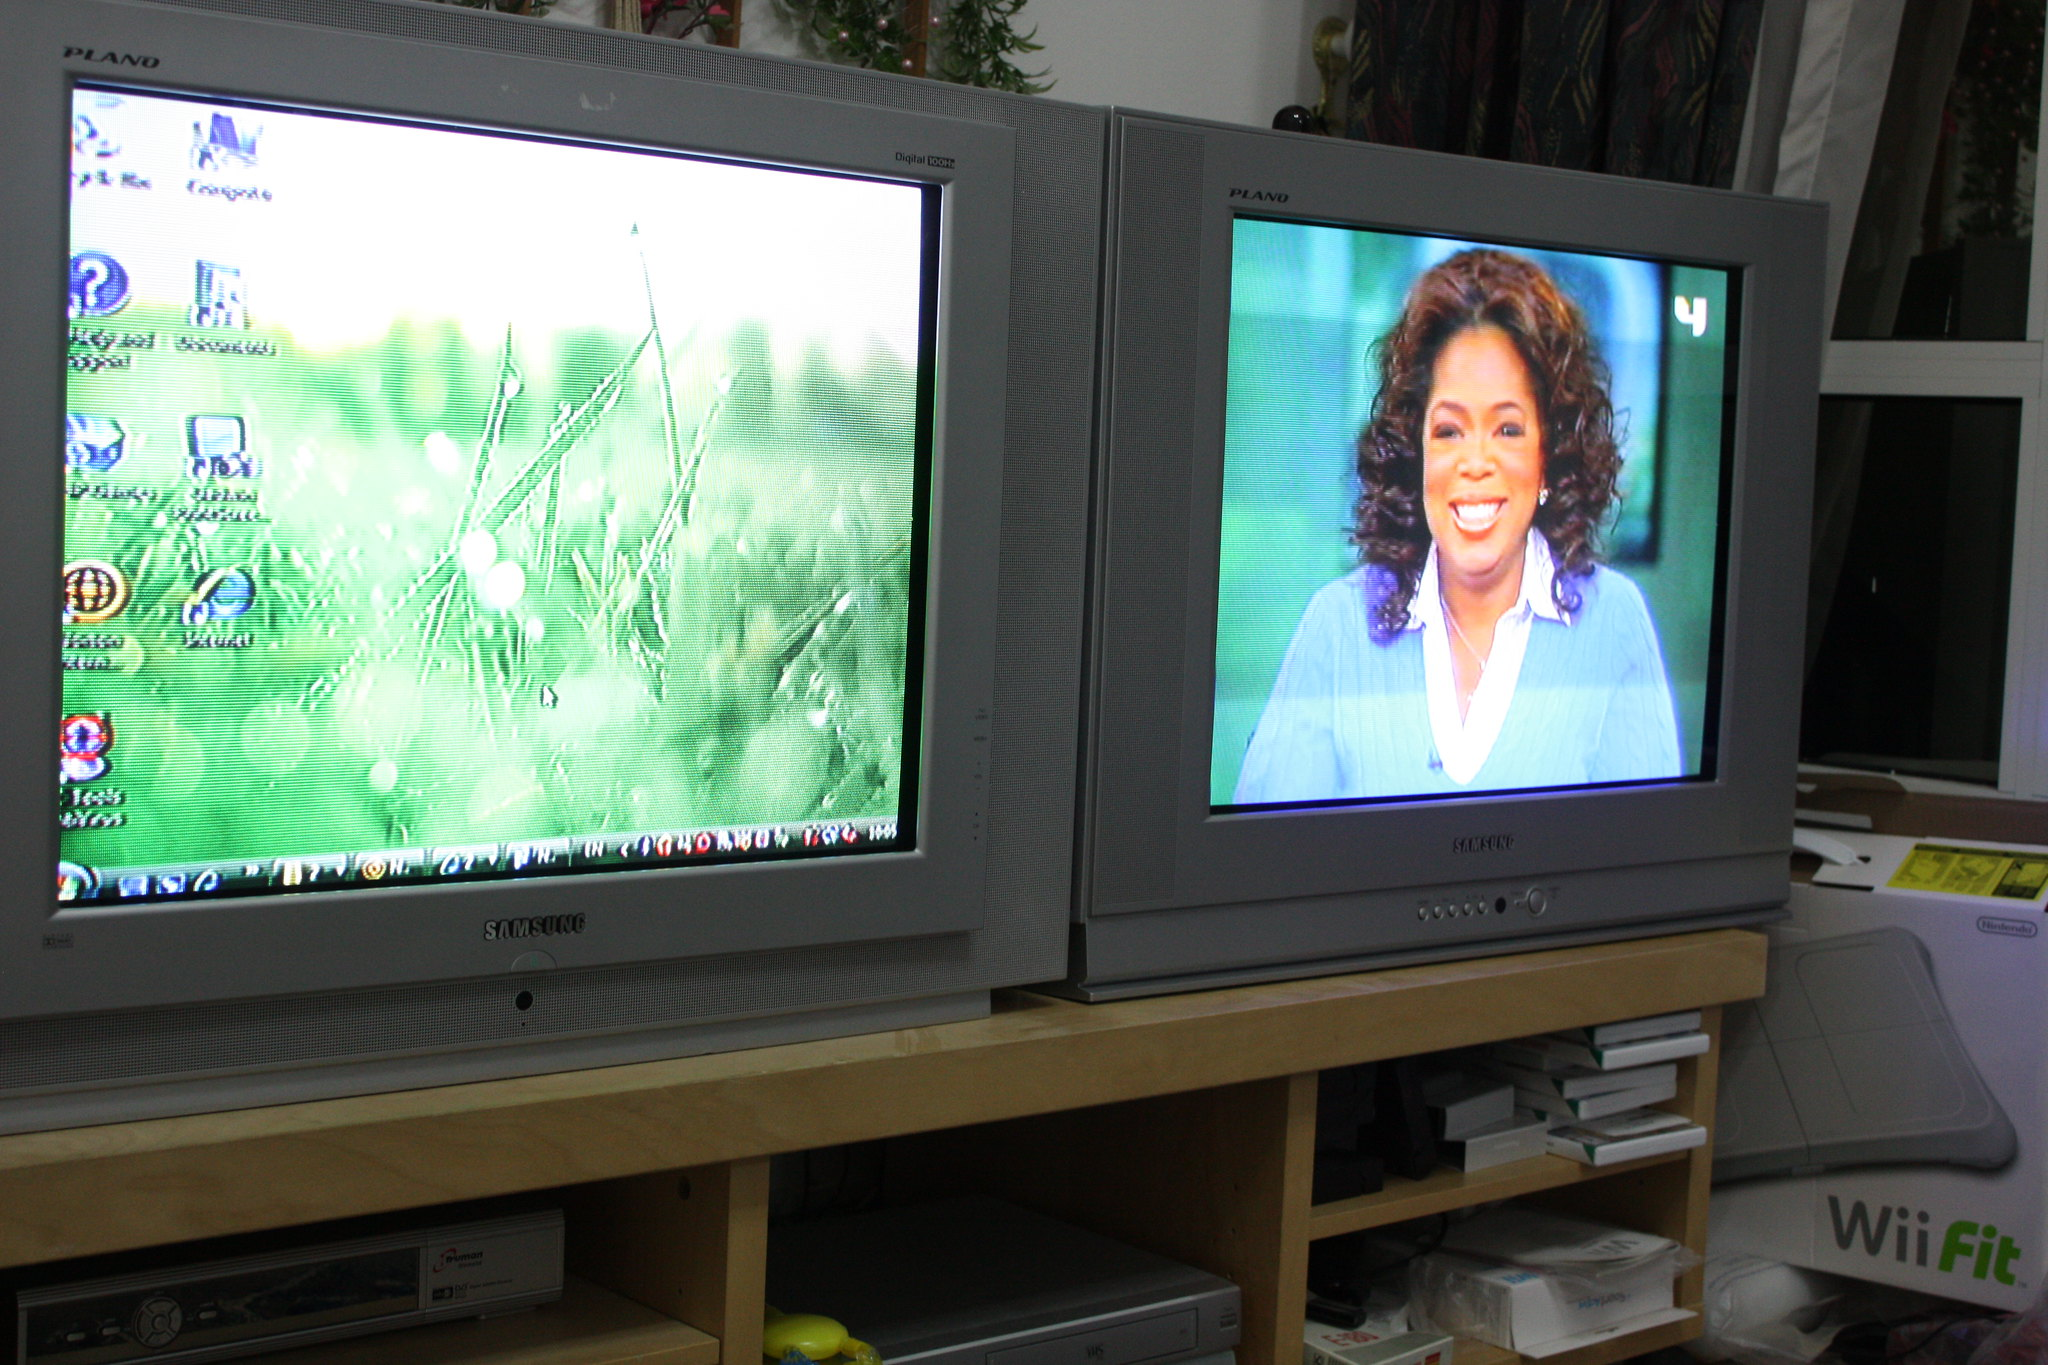tv monitor: (2, 99, 1104, 1085), (1104, 111, 1788, 949)
